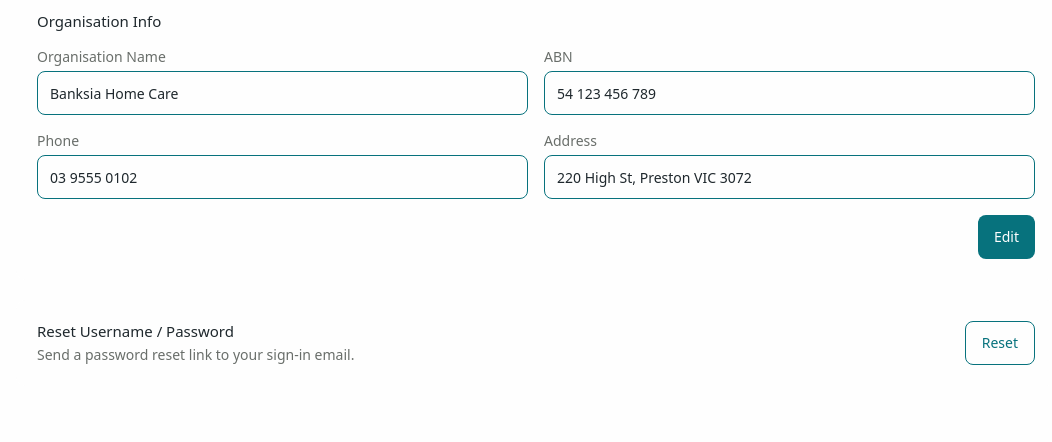
Test case: Admin Settings › [ADM-UI-05][AC-01] clears saved feedback when Edit is pressed again
Click the button "Edit": (1006, 237) [978, 215, 1035, 259]
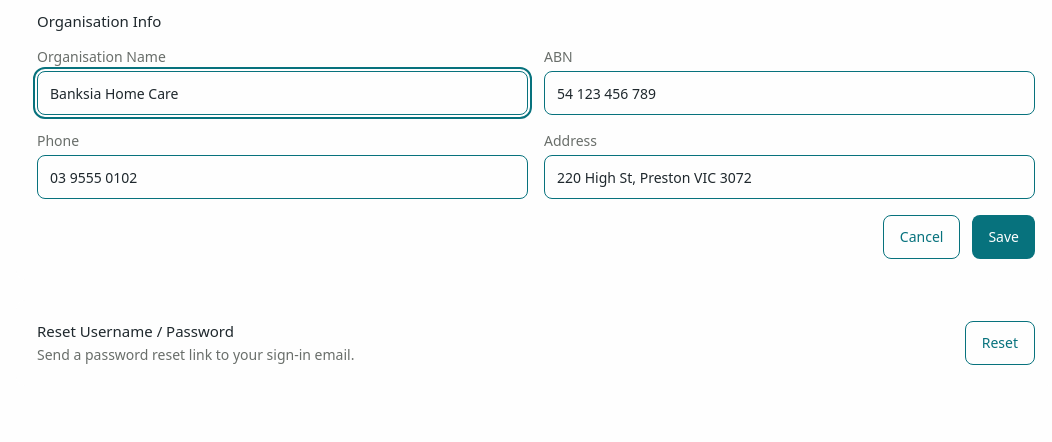
Click the button "Save": (1004, 237) [972, 215, 1035, 259]
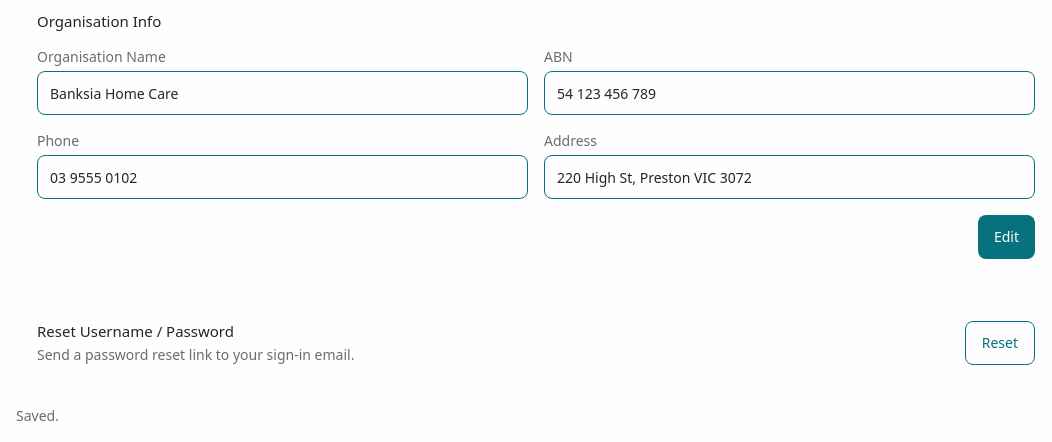
Expected: the text "Saved." is shown, [16, 406, 59, 425]
Click the button "Edit": (1006, 237) [978, 215, 1035, 259]
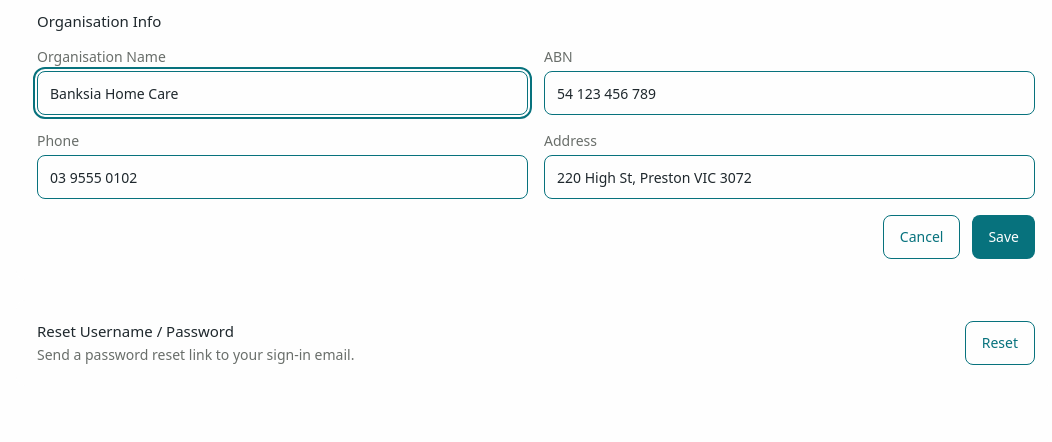
Expected: the text "Saved." is gone
